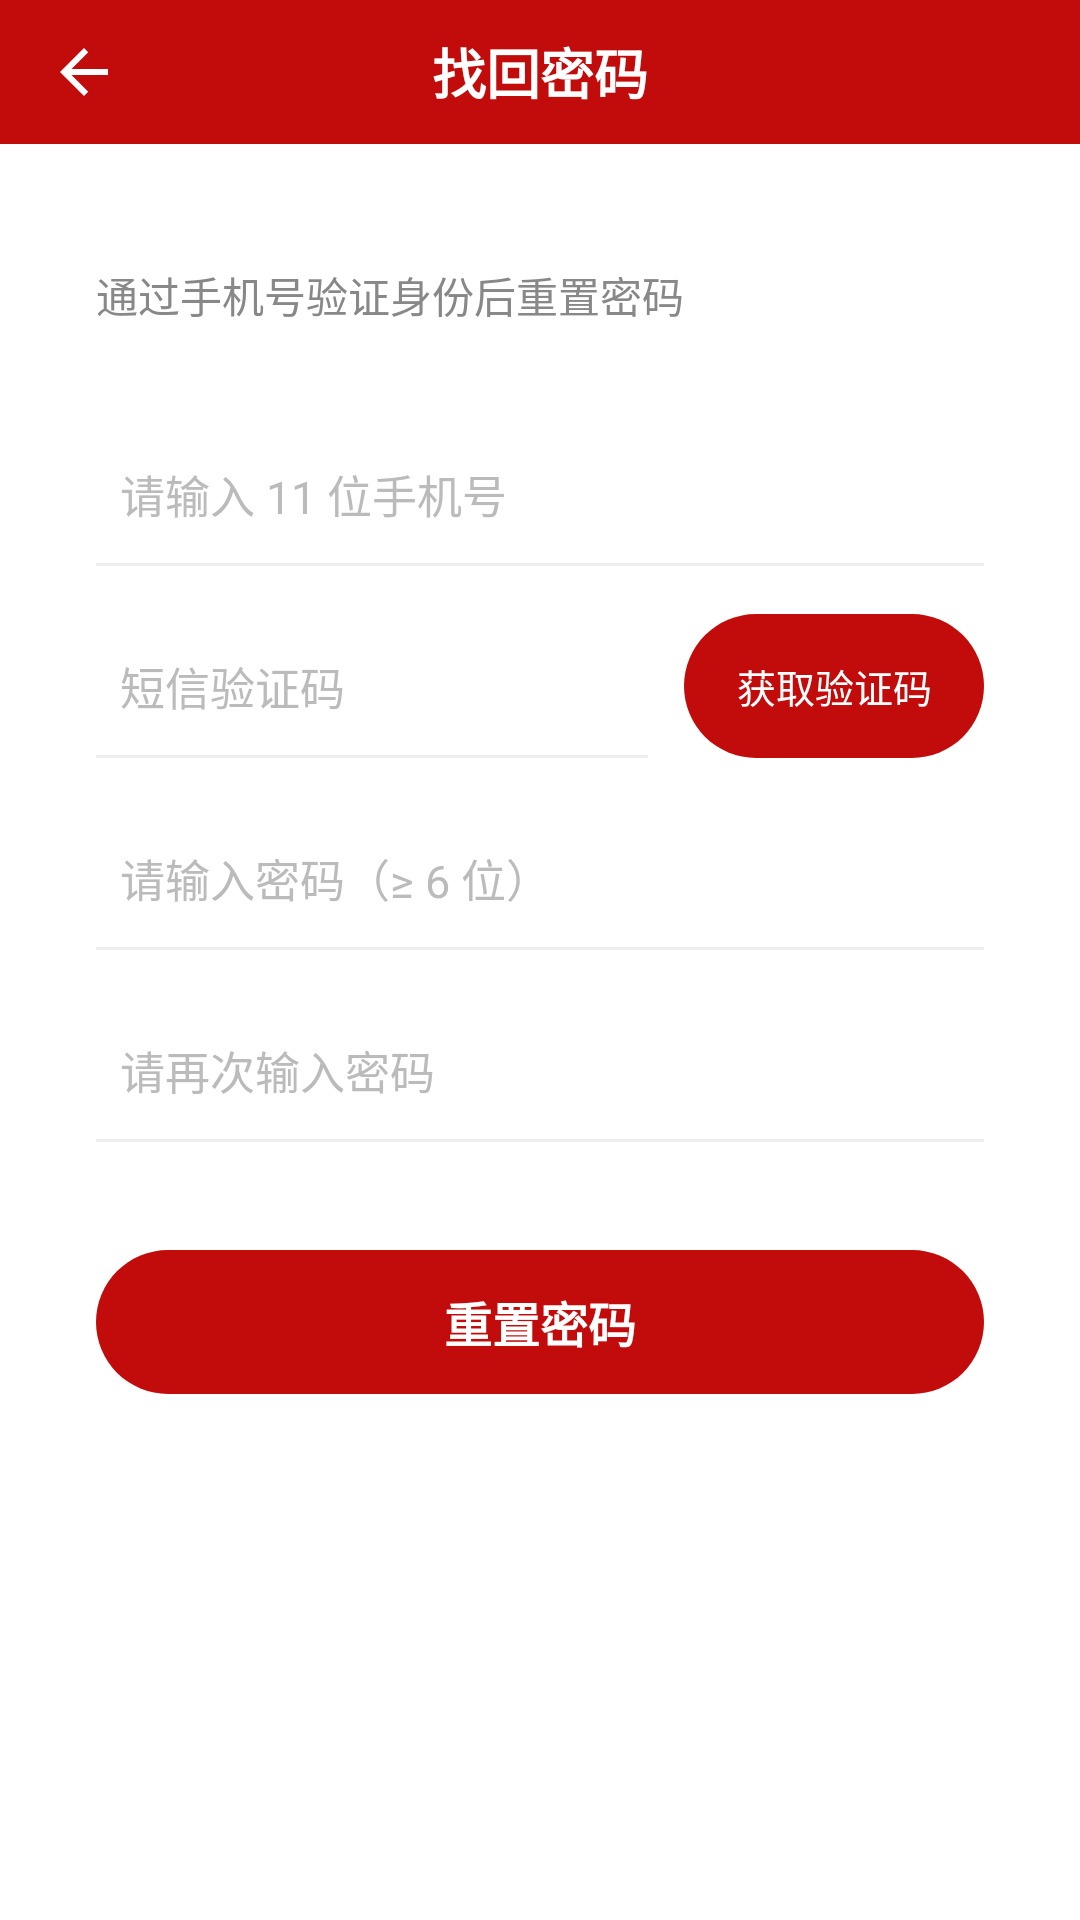

Screen size 1080px×1920px. Icon name, then its center in pixels as (x=x, y=y):
返回: (x=84, y=72)
